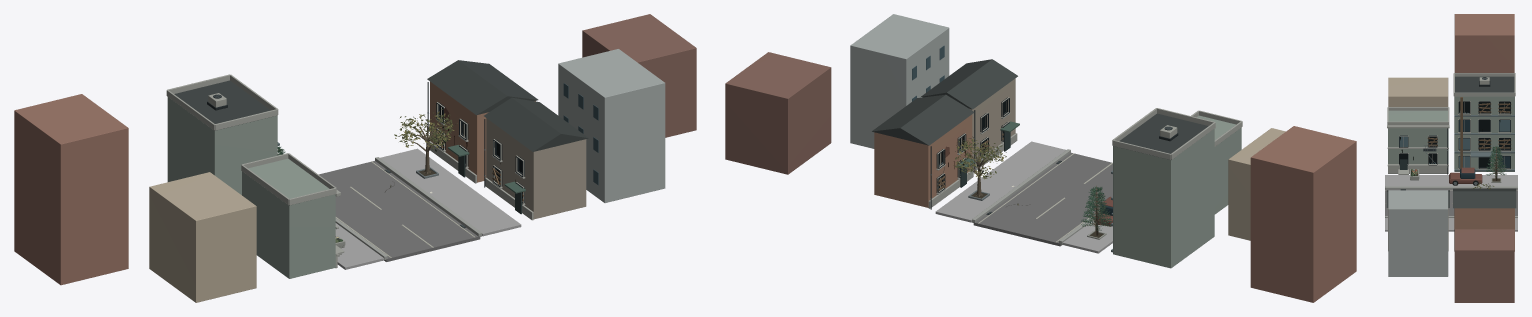
The model's file is city_hd_21.glb.
The picture shows the model from 3 angles, left to right: view 1: azimuth 30°, elevation 25°; view 2: azimuth 150°, elevation 25°; view 3: azimuth 270°, elevation 25°; orthographic projection. The views are drawn at different scales.
Parts seen in each view (by area): view 1: Background city building.001, CITY_realwall_929f96, Background city building.002, Background city building, CITY_roof, CITY_PBR_asphalt, Background city building.003, Narrow townhouse volume.001, CITY_PBR_pavement, CITY_trim, Narrow townhouse volume.002, CITY_curb (+4 smaller); view 2: Background city building.001, CITY_realwall_929f96, Background city building.003, Background city building.002, CITY_roof, CITY_PBR_asphalt, Narrow townhouse volume.002, CITY_PBR_pavement, CITY_trim, Background city building, Narrow townhouse volume.001, Tree individual folded leaves (+3 smaller); view 3: Background city building.002, Background city building.003, CITY_realwall_929f96, Background city building.001, CITY_roof, CITY_trim, Background city building, Narrow townhouse volume.002, CITY_PBR_pavement, CITY_window_void, CITY_recess, CITY_wood_panel (+10 smaller).
Boxes of the visible parts, x1,y1,x2,y2 form: Background city building.001: (14, 94, 128, 285); CITY_realwall_929f96: (167, 97, 335, 278); Background city building.002: (558, 49, 665, 202); Background city building: (149, 172, 256, 302); CITY_roof: (174, 60, 588, 205); CITY_PBR_asphalt: (319, 161, 480, 261); Background city building.003: (582, 14, 696, 137); Narrow townhouse volume.001: (486, 118, 586, 219); CITY_PBR_pavement: (335, 148, 521, 269); CITY_trim: (166, 74, 533, 268); Narrow townhouse volume.002: (430, 81, 535, 182); CITY_curb: (335, 157, 481, 260); Background city building.001: (1250, 126, 1356, 302); CITY_realwall_929f96: (1113, 115, 1241, 268); Background city building.003: (725, 52, 831, 174); Background city building.002: (850, 14, 949, 148); CITY_roof: (872, 59, 1208, 159); CITY_PBR_asphalt: (973, 152, 1112, 246); Narrow townhouse volume.002: (874, 114, 972, 207); CITY_PBR_pavement: (935, 141, 1112, 253); CITY_trim: (928, 108, 1242, 208); Background city building: (1228, 128, 1285, 240); Narrow townhouse volume.001: (969, 78, 1015, 163); Tree individual folded leaves: (953, 136, 1006, 179); Background city building.002: (1388, 190, 1448, 276); Background city building.003: (1454, 229, 1514, 302); CITY_realwall_929f96: (1388, 96, 1514, 171); Background city building.001: (1454, 14, 1514, 72); CITY_roof: (1386, 76, 1516, 208); CITY_trim: (1387, 73, 1515, 174); Background city building: (1388, 77, 1448, 106); Narrow townhouse volume.002: (1454, 208, 1514, 251); CITY_PBR_pavement: (1385, 175, 1517, 231); CITY_window_void: (1399, 102, 1510, 167); CITY_recess: (1399, 101, 1510, 168); CITY_wood_panel: (1427, 97, 1511, 168).
Size of the model in its own units: 56.65 by 12.26 by 16.
